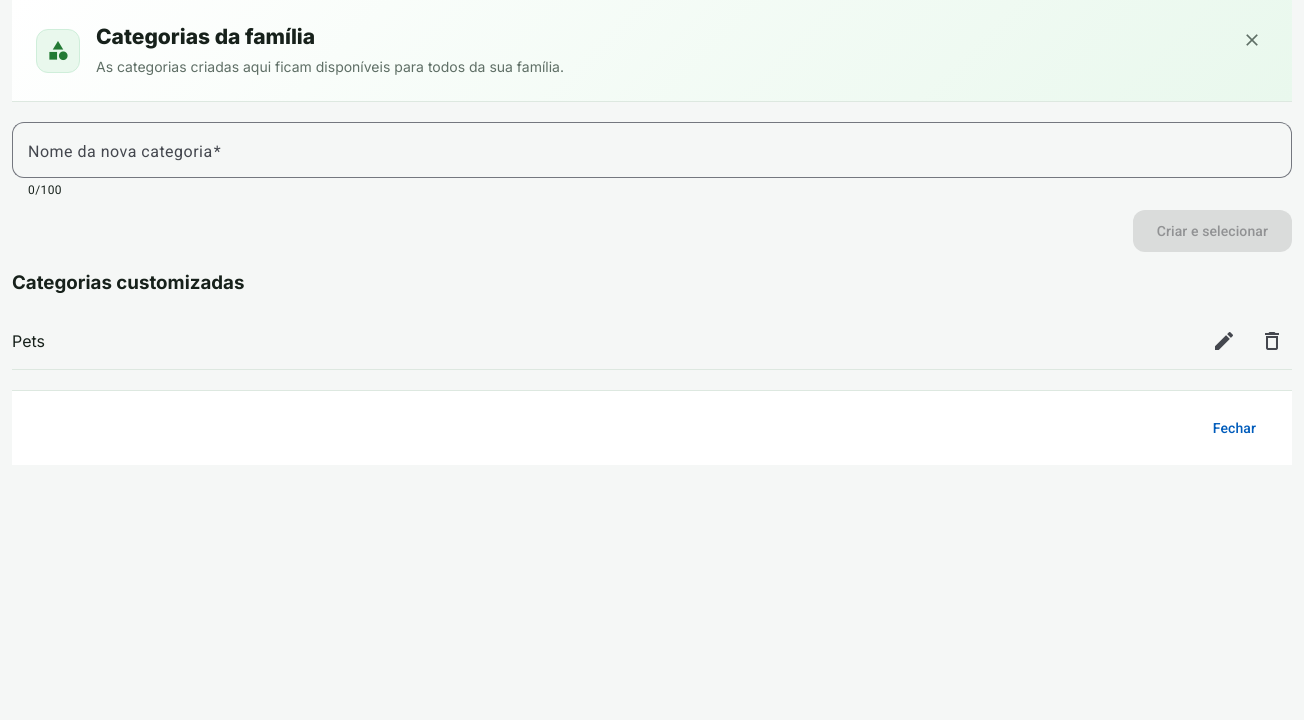
Test: DialogCategoriasComponent › desativa somente após confirmação e remove a opção local
Click the button named "Desativar Pets": x=1272, y=341 [1252, 321, 1292, 361]
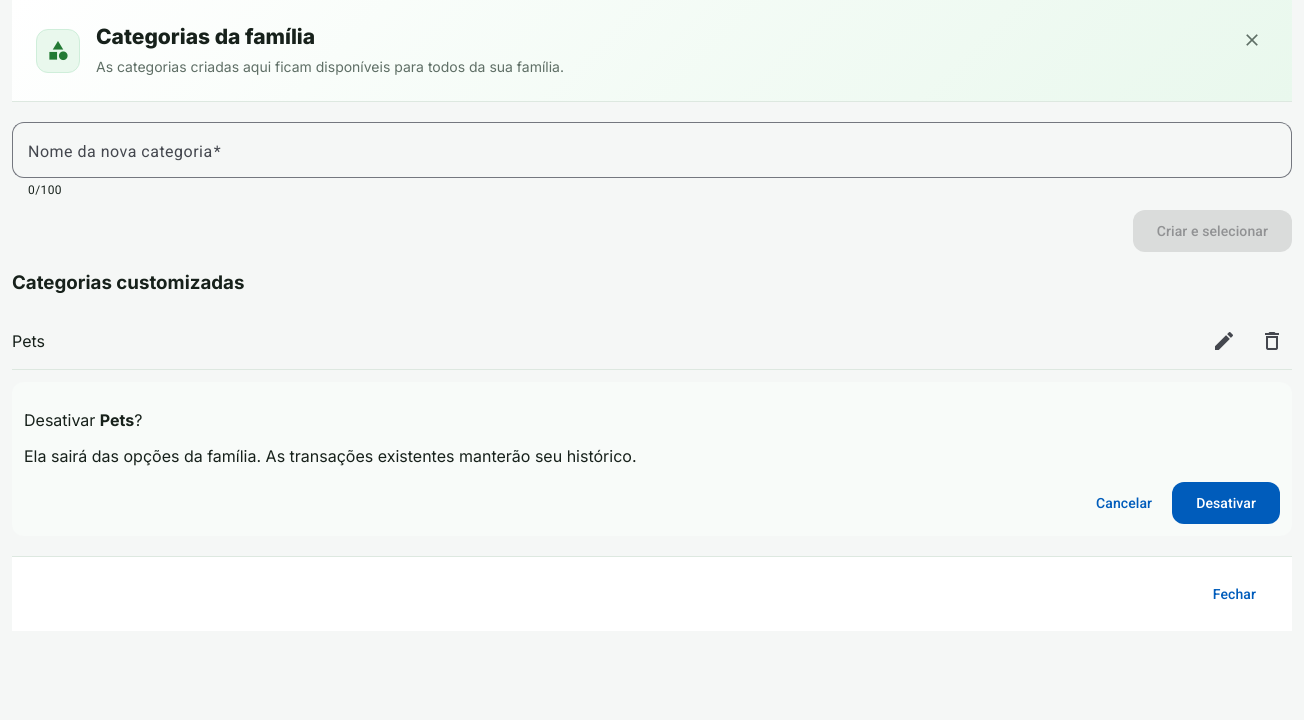
Check: the text "manterão seu histórico" is shown, box [24, 446, 636, 466]
